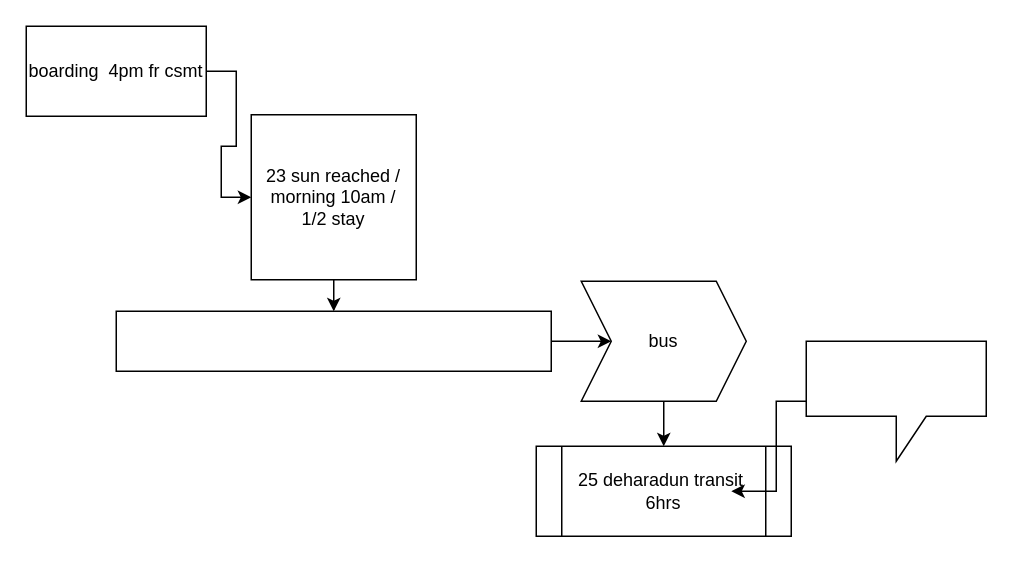
Some shapes in this 1013 by 563 pixel diagram are drawn without their labels. The shapes that lost their labels are listed below. From the top down, each one's box as (x1, y1, x2, y2) in pixels, then its label:
(115, 310, 551, 371): 23/24 Bangla sahib/market/pahadganj
(805, 340, 986, 461): bus to
